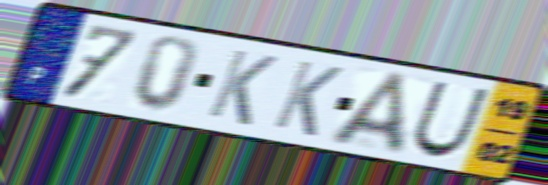0: (129, 34, 203, 115)
7: (59, 21, 141, 102)
A: (324, 69, 412, 158)
K: (268, 57, 347, 140), (203, 46, 281, 129)
U: (408, 78, 493, 160)
